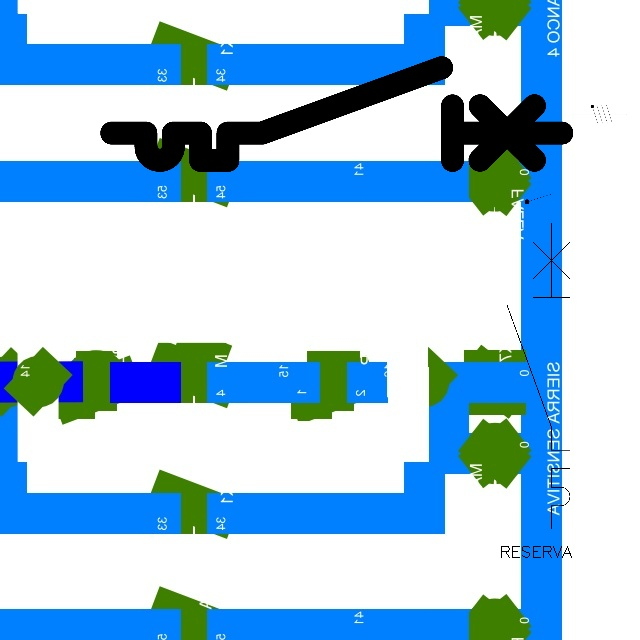interruptor_termomagnetico: (100, 56, 574, 172), (499, 215, 578, 537)
